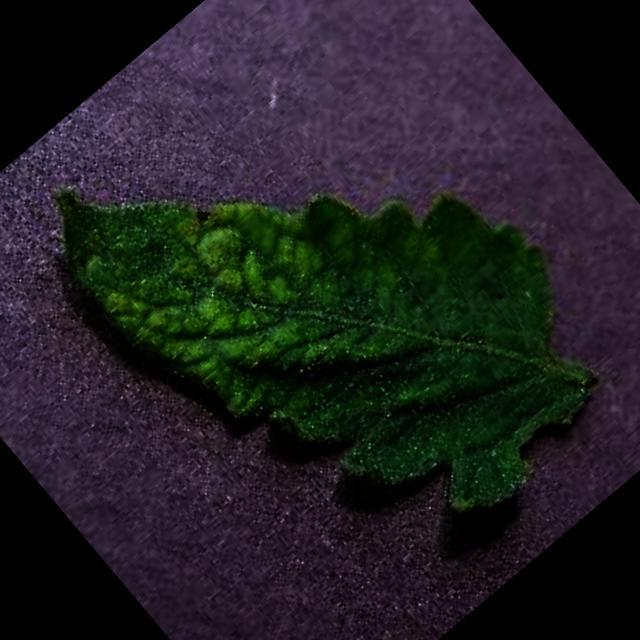Tomato mosaic virus leaf: (22, 0, 640, 625)
